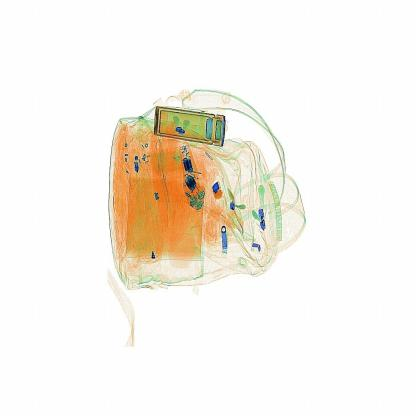wrench: (210, 180, 228, 202)
